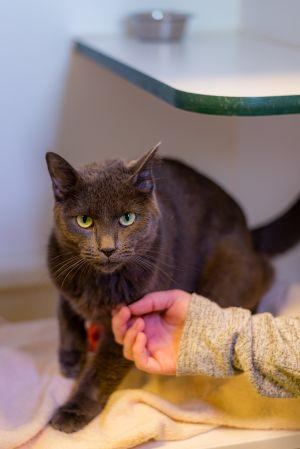rblue: (40, 138, 173, 284)
